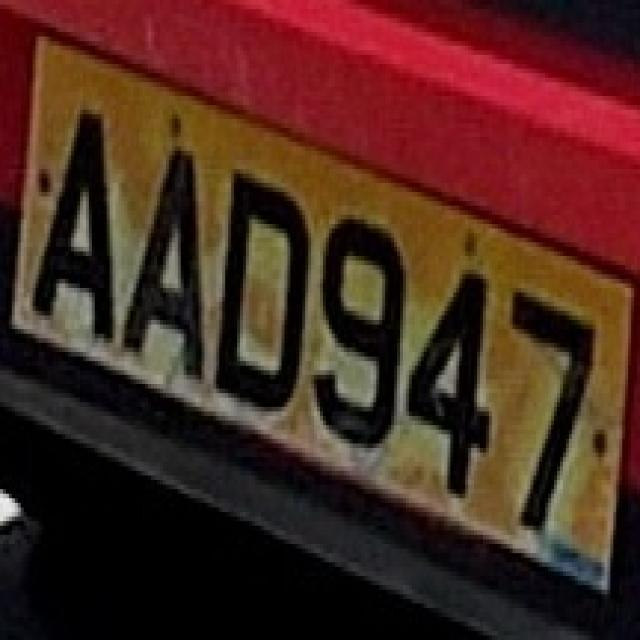4: (404, 238, 494, 498)
7: (504, 283, 606, 537)
9: (313, 204, 407, 452)
A: (24, 95, 120, 346), (119, 146, 205, 382)
D: (208, 150, 316, 413)
